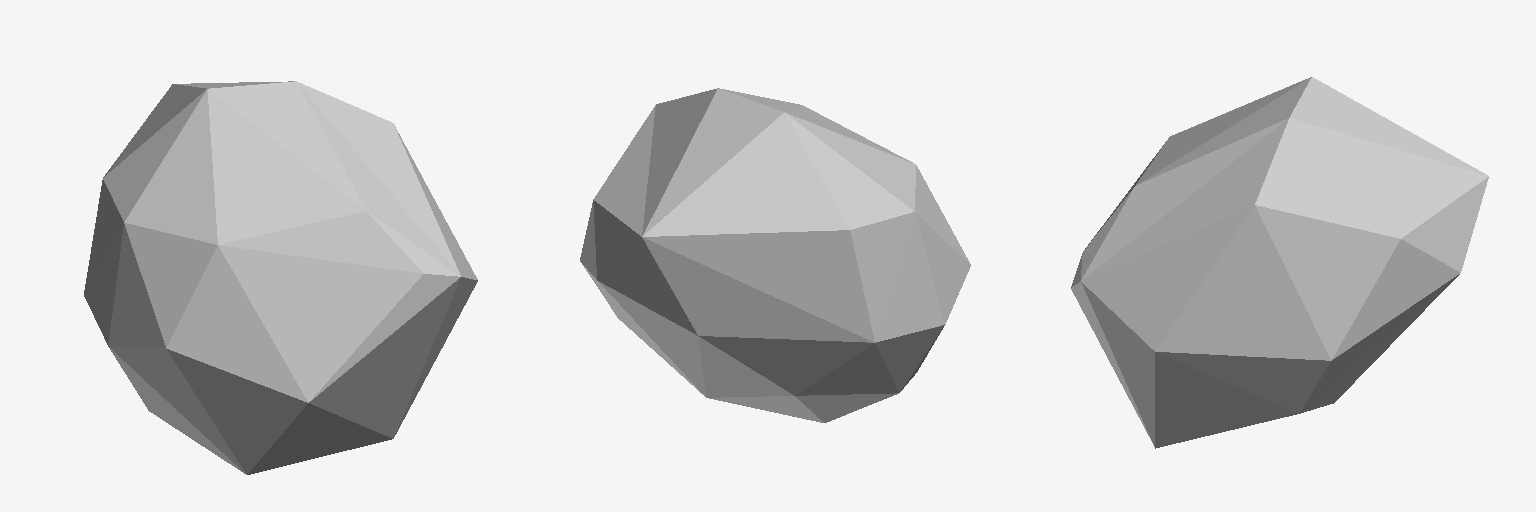
The model's file is rock.obj.
The picture shows the model from 3 angles: view 1: azimuth 30°, elevation 25°; view 2: azimuth 150°, elevation 25°; view 3: azimuth 270°, elevation 25°; orthographic projection.
Parts seen in each view (by area): view 1: Sphere.001; view 2: Sphere.001; view 3: Sphere.001.
Part boxes in pixels (x1,y1,x2,y2): Sphere.001: (84, 81, 477, 474); Sphere.001: (580, 88, 970, 422); Sphere.001: (1071, 77, 1488, 448).
Size of the model in its own units: 1.85 by 1.78 by 2.07.